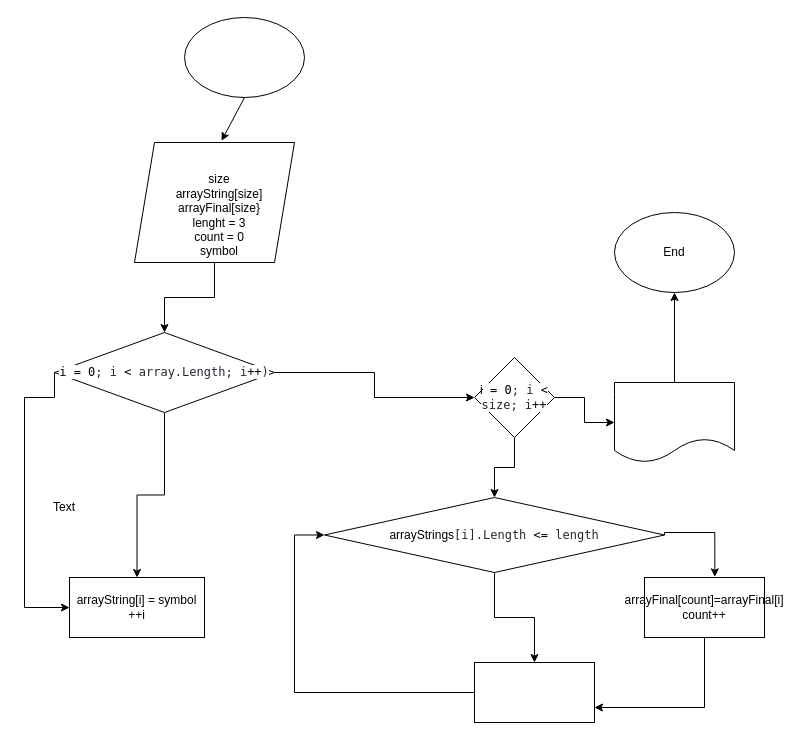
Image size: 801x740. Some labels were removed from this diagram. The centre of each missing label's shape, as x and y in pixels:
++i: pixel 534 692
PrintArray(arrayFinal): pixel 674 422
Старт: pixel 244 57
